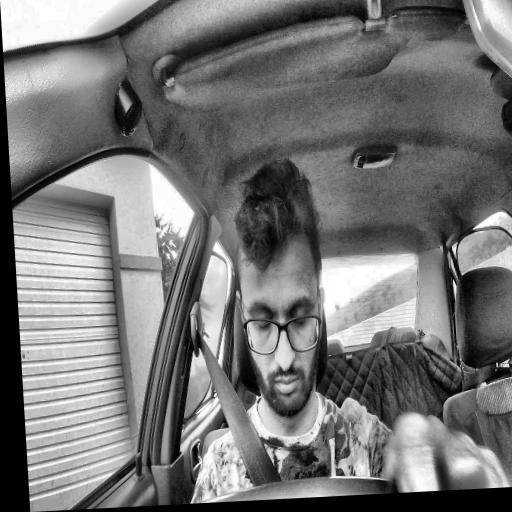drowsy: (228, 154, 335, 424)
